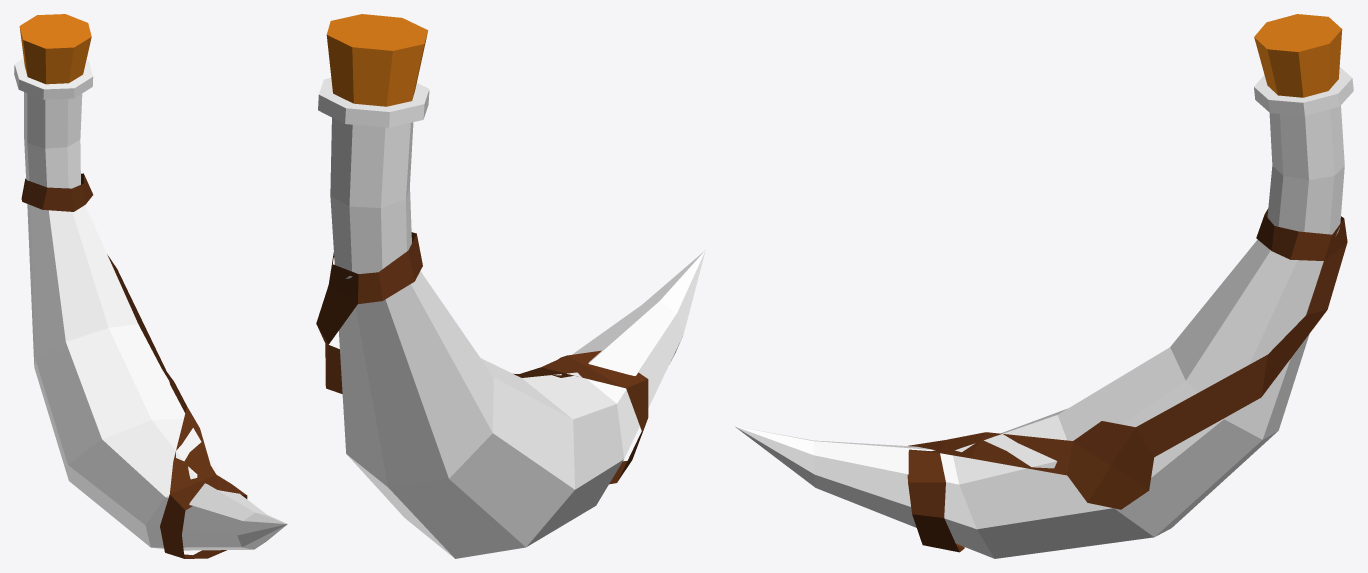
The model's file is SpeedPotion.glb.
The picture shows the model from 3 angles, left to right: view 1: azimuth 30°, elevation 25°; view 2: azimuth 150°, elevation 25°; view 3: azimuth 270°, elevation 25°; orthographic projection. The views are drawn at different scales.
Visible parts, largest first — view 1: Speed_Poti; view 2: Speed_Poti; view 3: Speed_Poti.
Part boxes in pixels (x1,y1,x2,y2): Speed_Poti: [14, 14, 287, 558]; Speed_Poti: [316, 14, 705, 558]; Speed_Poti: [735, 14, 1353, 558].
Bounding box in the file's own units: 0.7272 × 2.44 × 2.6.
